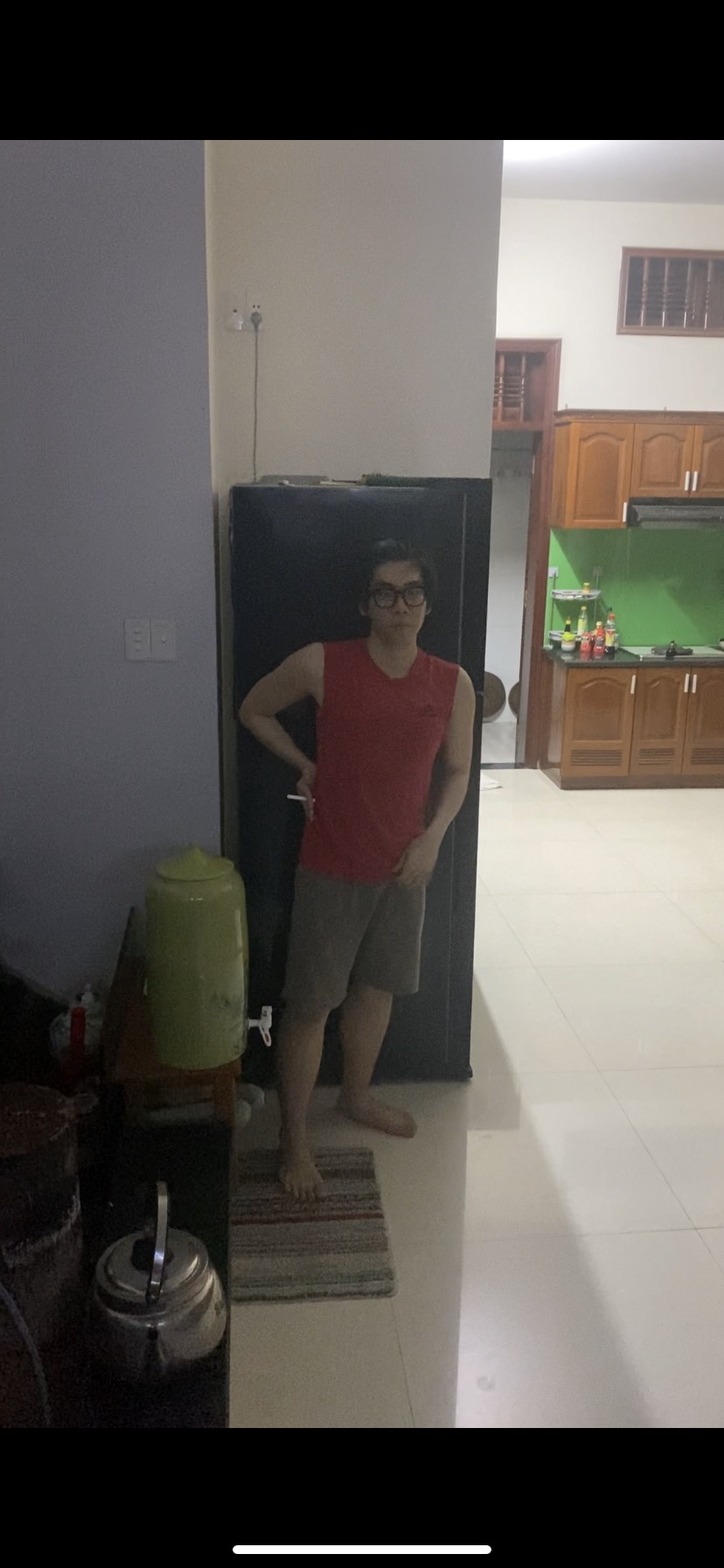cigarette: (283, 791, 310, 803)
person: (231, 476, 477, 1211)
